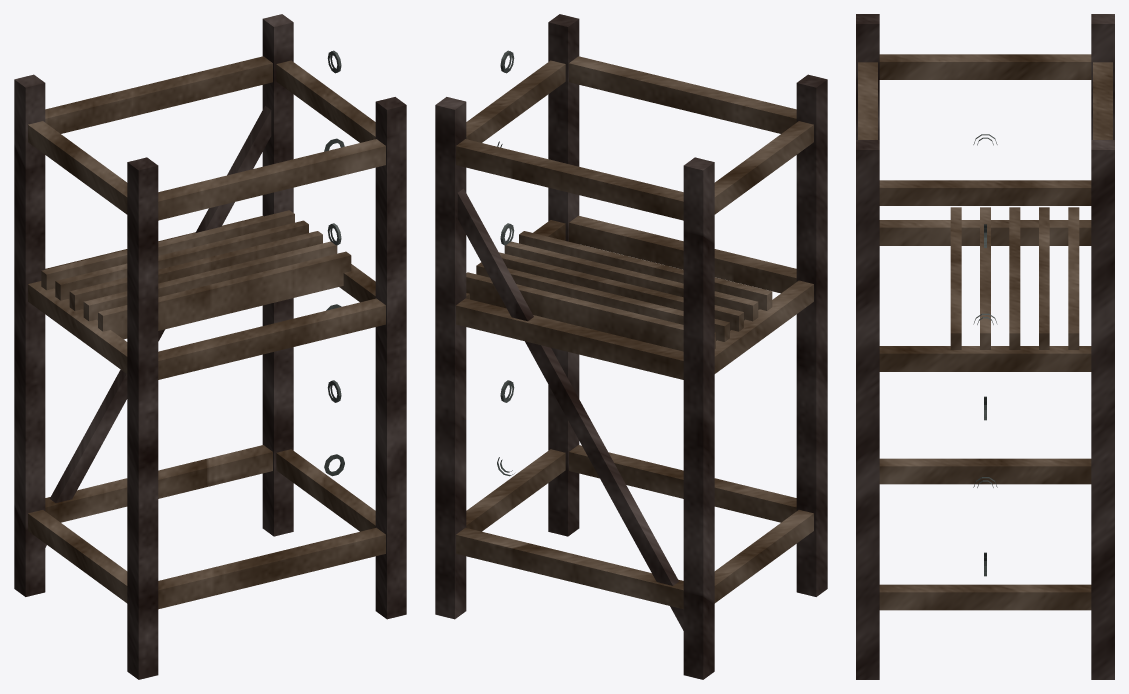
File: 0431_scaffolding_06.glb
3 views of the same model, side by side, from view 1: azimuth 30°, elevation 25°; view 2: azimuth 150°, elevation 25°; view 3: azimuth 270°, elevation 25° (orthographic). The views are drawn at different scales.
Visible parts, largest first — view 1: wood, wood_dark, iron; view 2: wood, wood_dark, iron; view 3: wood, wood_dark, iron.
Part boxes in pixels (x1,y1,x2,y2): wood: (28, 56, 385, 609); wood_dark: (14, 14, 406, 679); iron: (324, 50, 344, 476); wood: (456, 56, 813, 609); wood_dark: (435, 14, 827, 679); iron: (497, 50, 514, 476); wood: (858, 54, 1112, 610); wood_dark: (856, 14, 1114, 679); iron: (973, 134, 997, 576).
Bounding box in the file's own units: 1.77 × 3.28 × 1.42.
3 materials, 3 textured.
